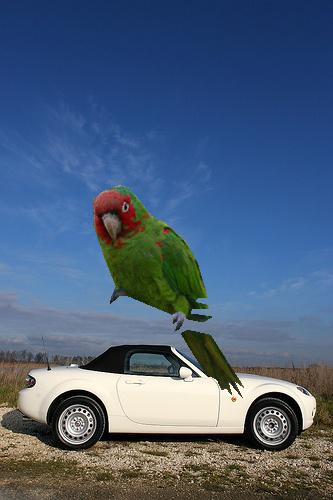tampered: (94, 186, 244, 399)
